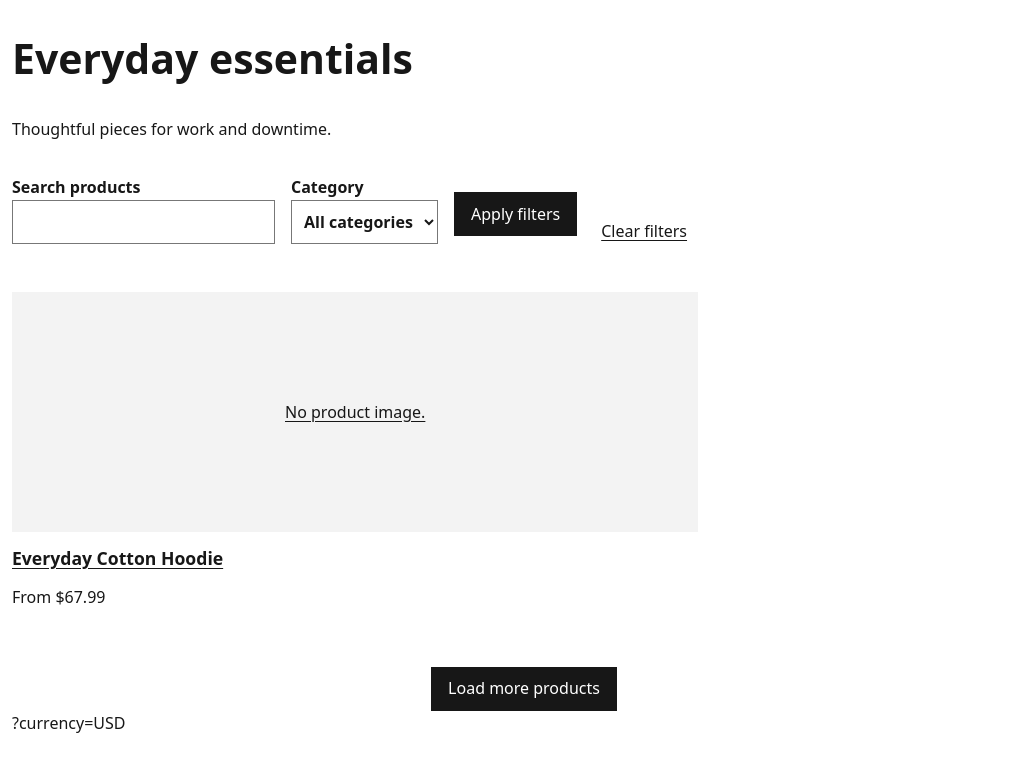
it: product list pages › keeps the loaded products when the next page fails, and Try again asks for that page only
Step 1. Click the button "Load more products" → (524, 689), box [431,667,617,711]
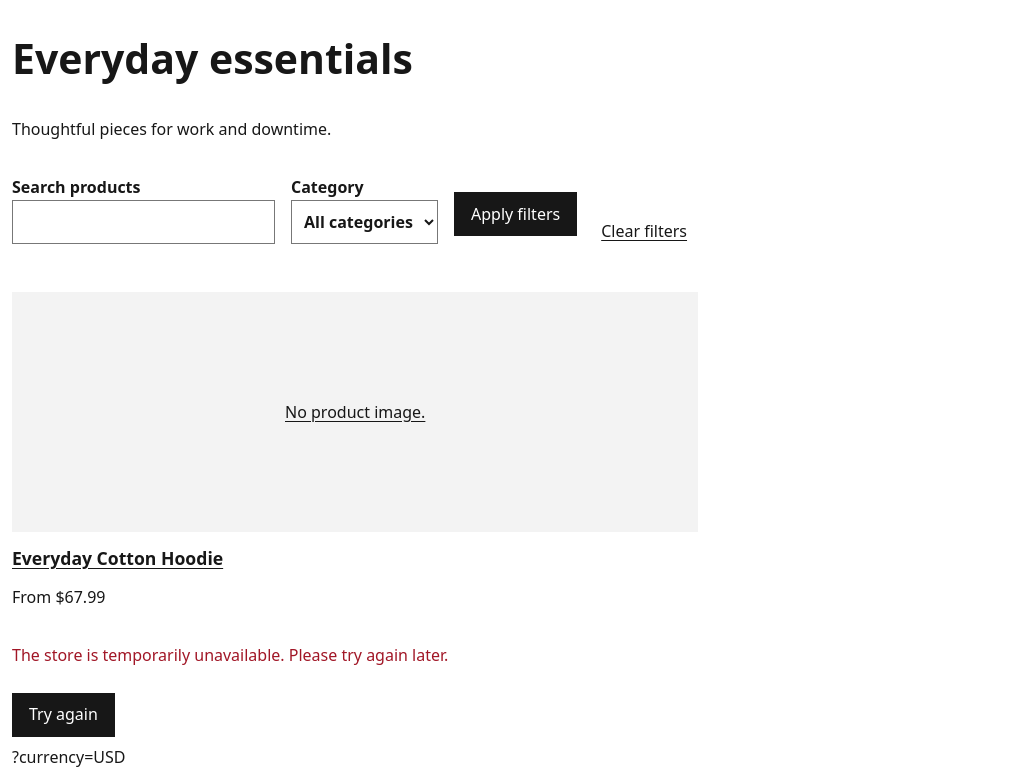
Expected: the heading "Everyday Cotton Hoodie" is shown, [12,546,223,570]
Expected: the message shows "temporarily unavailable", [12,644,448,666]
Step 2. Click the button "Try again" → (63, 715), box [12,693,115,737]
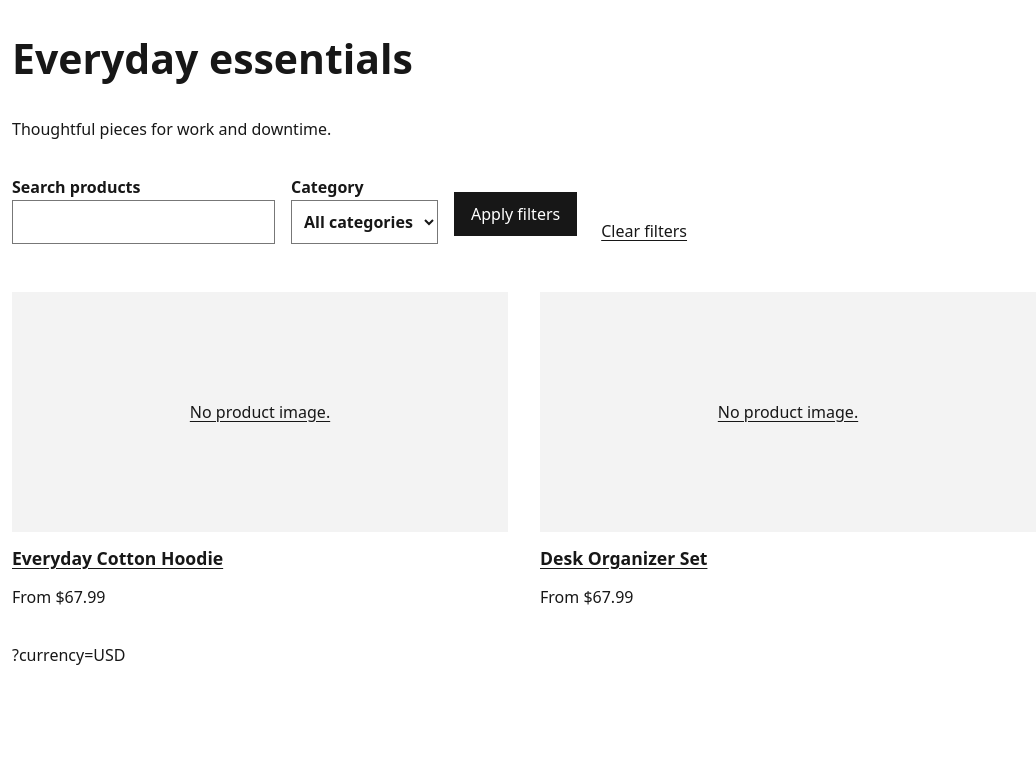
Expected: the message "The store is temporarily unavailable. Please try again later. Try again" is gone
